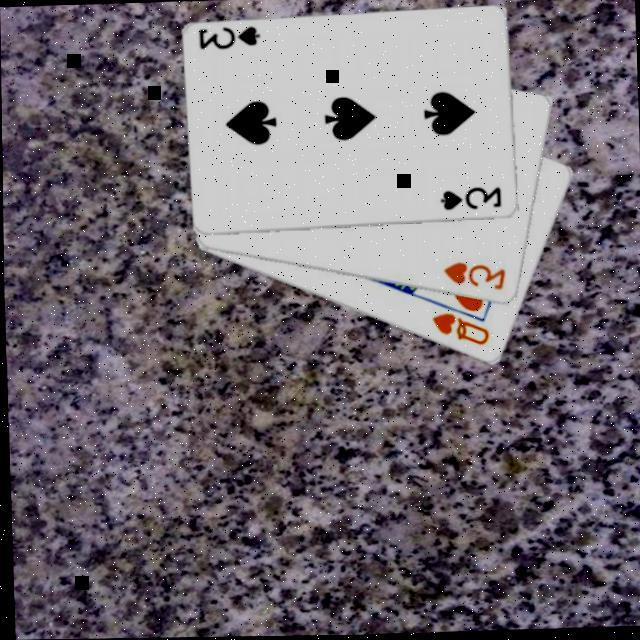3H: (441, 259, 510, 297)
3S: (439, 186, 505, 217), (197, 24, 263, 54)
QH: (429, 310, 494, 352)
